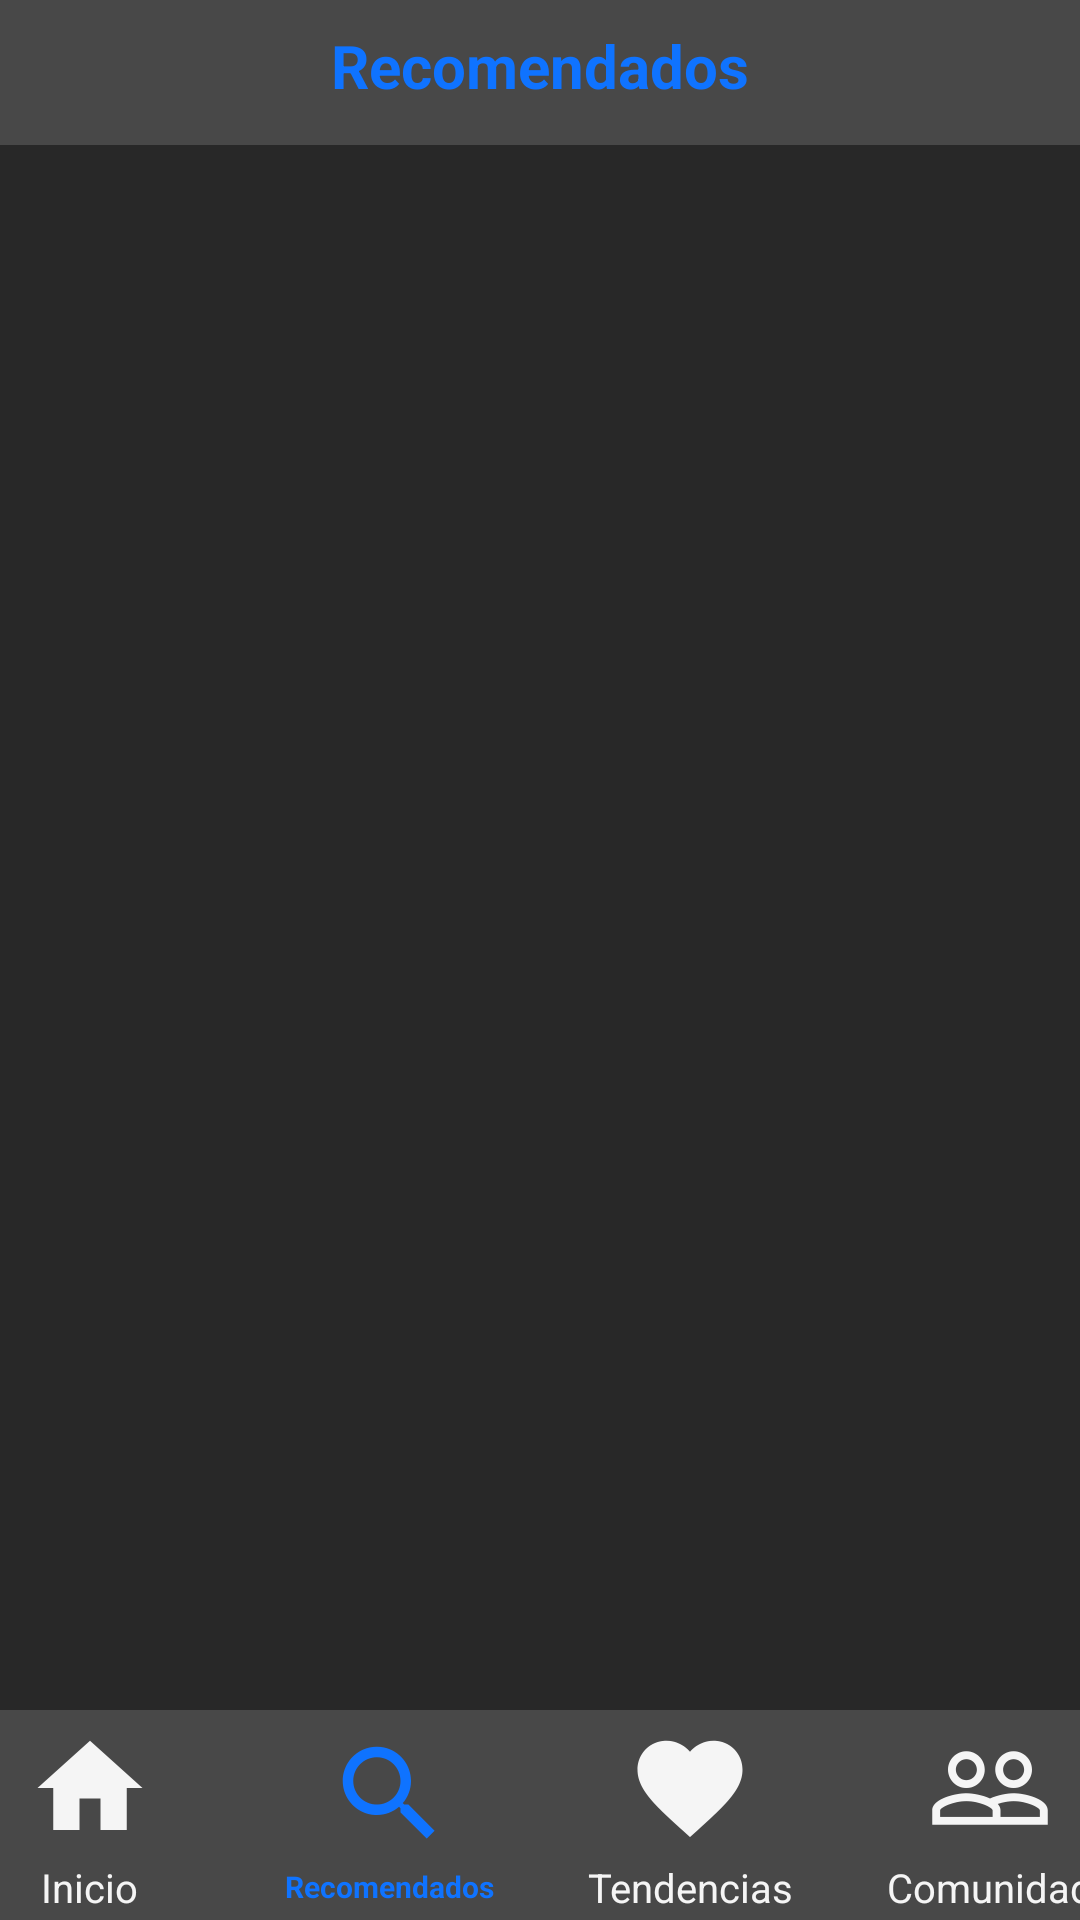

Where to tap for icons on this 1080×1920 app screen, as [x,y]:
search: [388,1792]
